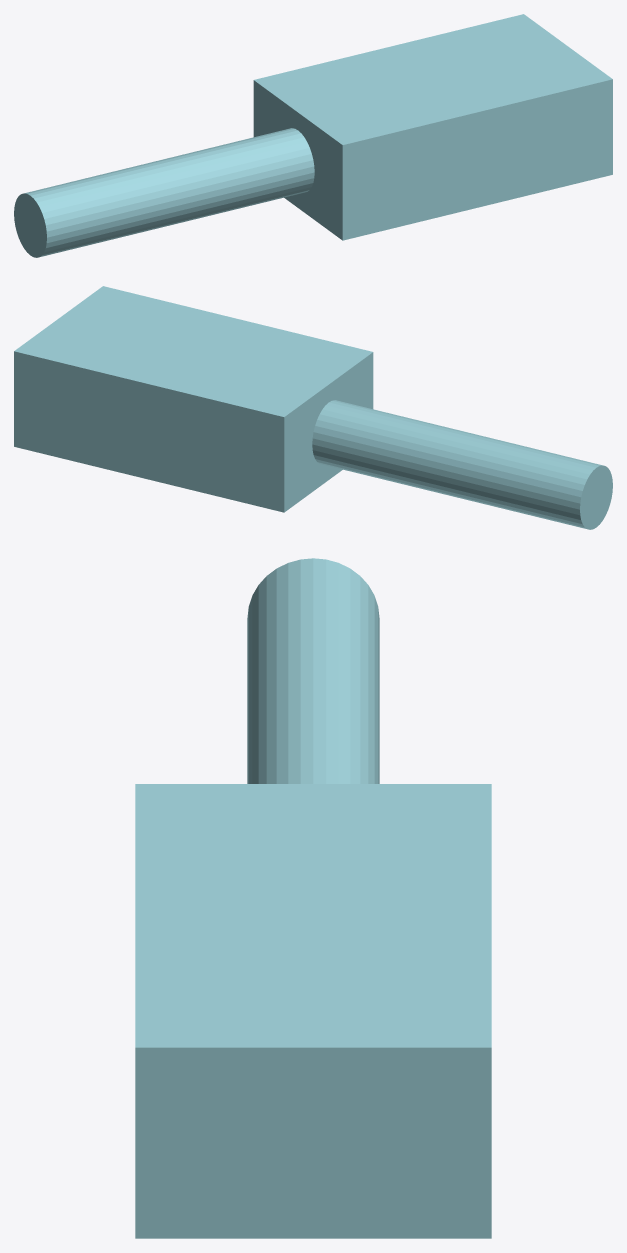
The model's file is cylinder_brush_v9010.obj.
The picture shows the model from 3 angles, top to bottom: view 1: azimuth 30°, elevation 25°; view 2: azimuth 150°, elevation 25°; view 3: azimuth 270°, elevation 25°; orthographic projection. The views are drawn at different scales.
Size of the model in its own units: 0.2235 by 0.0379 by 0.0641.
Materials: 1 (1 with a texture image).
